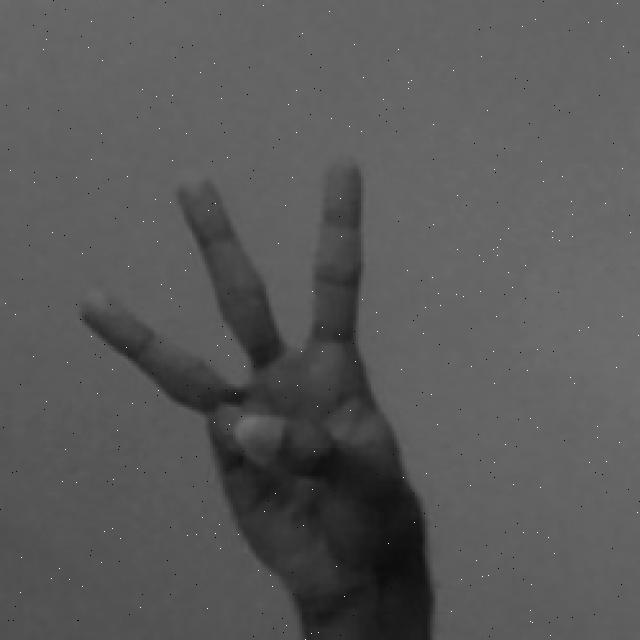W: (76, 155, 443, 640)
